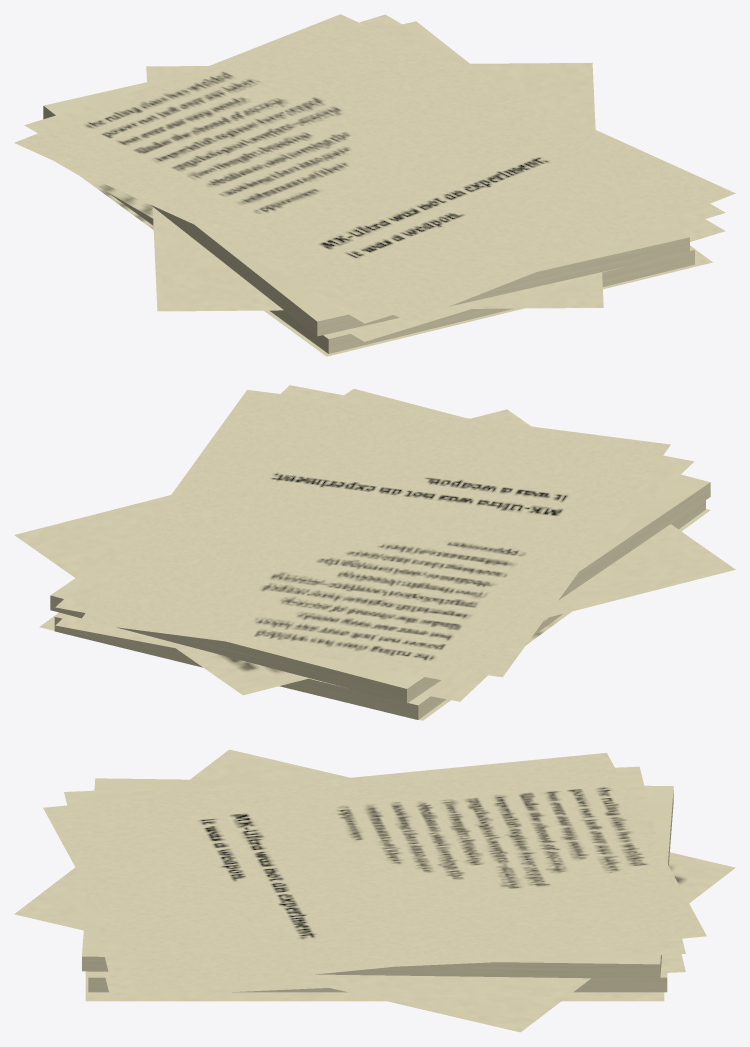
File: MKU_paper_stack_fin.fbx
3 views of the same model, one above another, from view 1: azimuth 30°, elevation 25°; view 2: azimuth 150°, elevation 25°; view 3: azimuth 270°, elevation 25° (orthographic).
Visible parts, largest first — view 1: Plane.004; view 2: Plane.004; view 3: Plane.004.
Boxes of the visible parts, x1,y1,x2,y2 form: Plane.004: (14, 14, 735, 356); Plane.004: (14, 385, 735, 720); Plane.004: (14, 749, 735, 1032).
Bounding box in the file's own units: 231 × 13.45 × 250.
